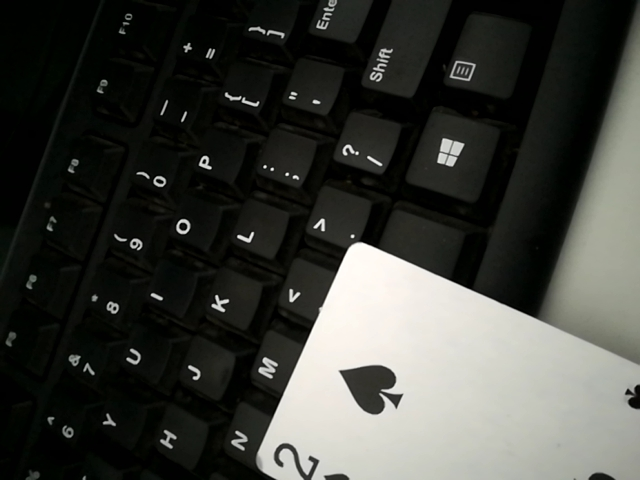ht 2: (241, 231, 640, 480)
